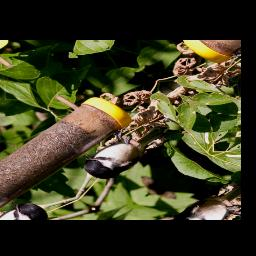Swallow: (69, 127, 159, 186)
